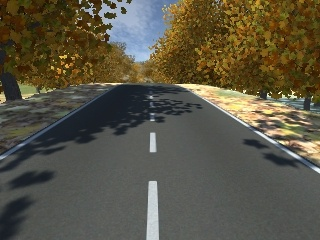Line slipt: (147, 102, 158, 154)
